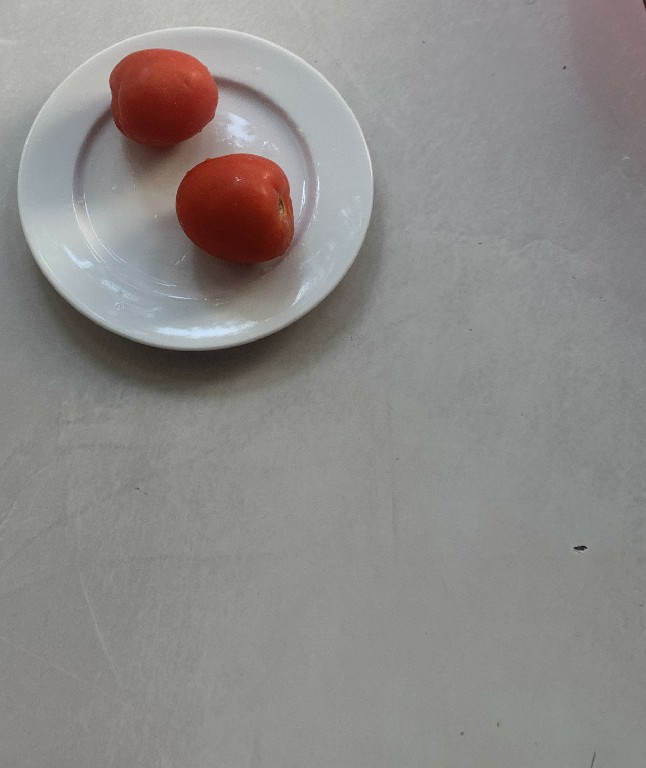OK: (173, 153, 302, 274), (101, 40, 224, 150)
